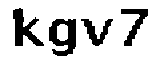7: (118, 2, 151, 50)
g: (47, 17, 78, 57)
k: (11, 7, 47, 49)
v: (80, 16, 114, 48)
